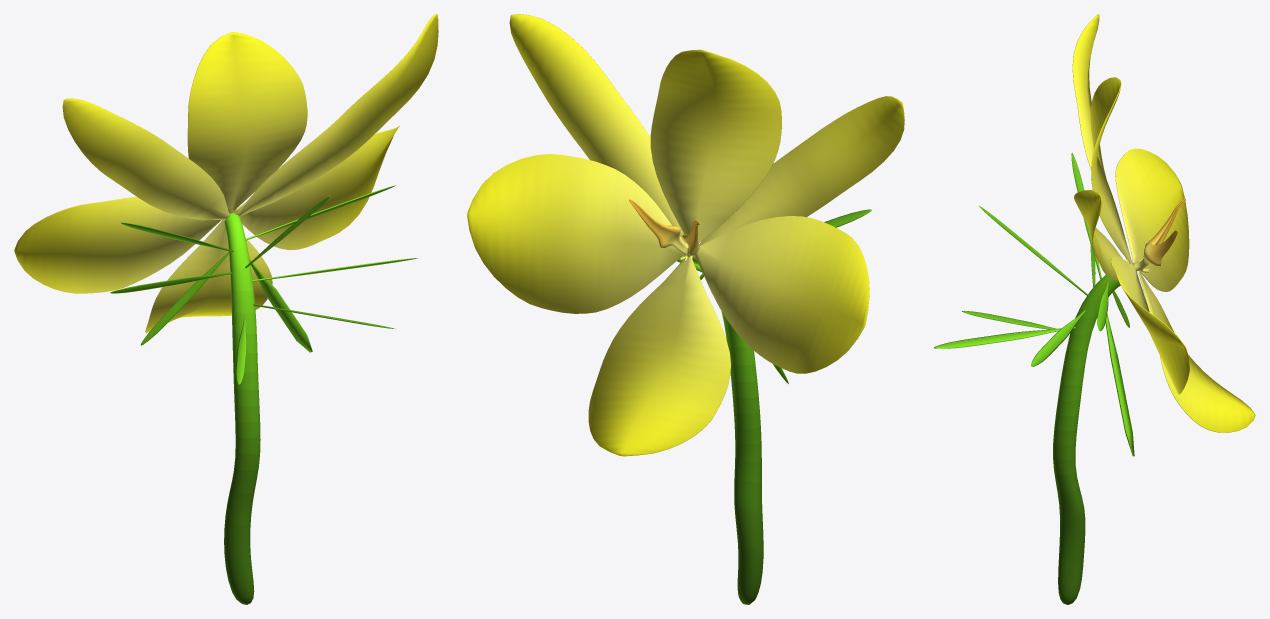
Rendered from SM_Yellow.fbx.
The picture shows the model from 3 angles, left to right: view 1: azimuth 30°, elevation 25°; view 2: azimuth 150°, elevation 25°; view 3: azimuth 270°, elevation 25°; orthographic projection. The views are drawn at different scales.
Parts seen in each view (by area): view 1: Cube.002; view 2: Cube.002; view 3: Cube.002.
Part boxes in pixels (x1,y1,x2,y2): Cube.002: (14,14,438,604); Cube.002: (467,14,904,604); Cube.002: (934,14,1255,604).
Size of the model in its own units: 13.38 by 18.33 by 10.14.
